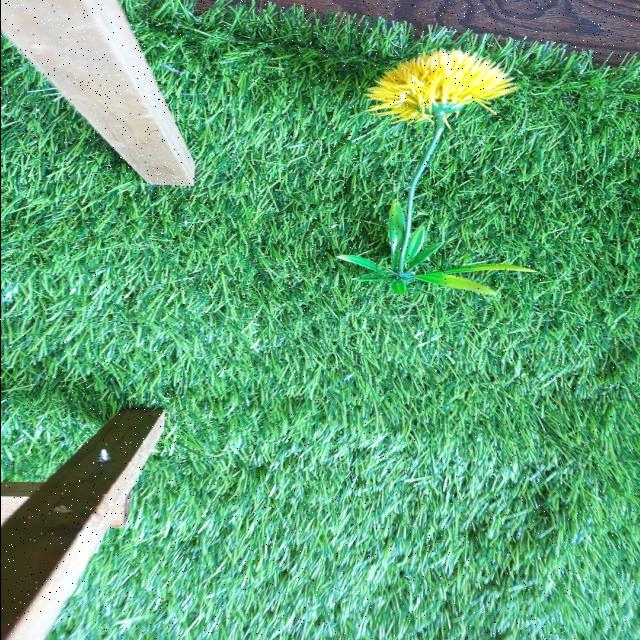base: (342, 204, 528, 296)
flower: (370, 44, 509, 124)
